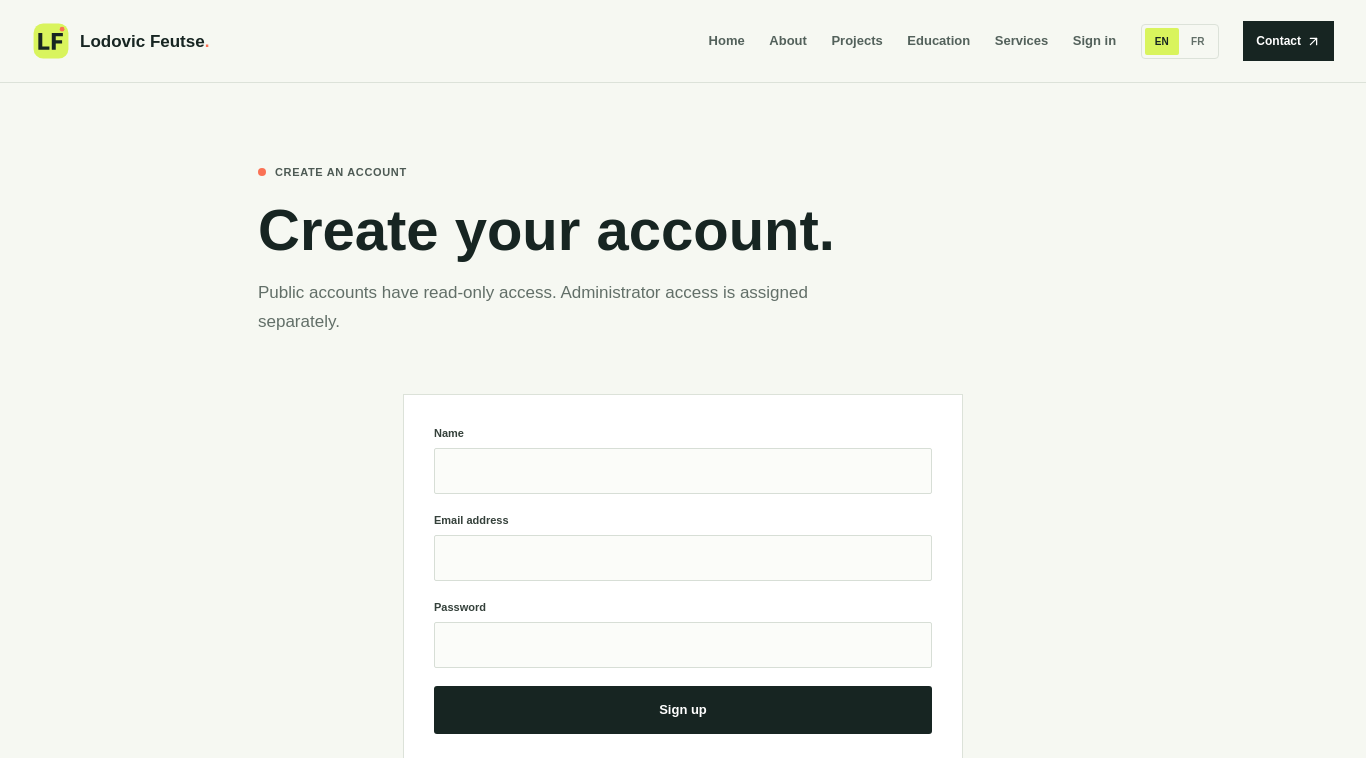
authentication and dashboard › creates an account and stores the returned session
Type "Alex Example" into the field labelled "Name" at (683, 471), box [434, 448, 932, 494]
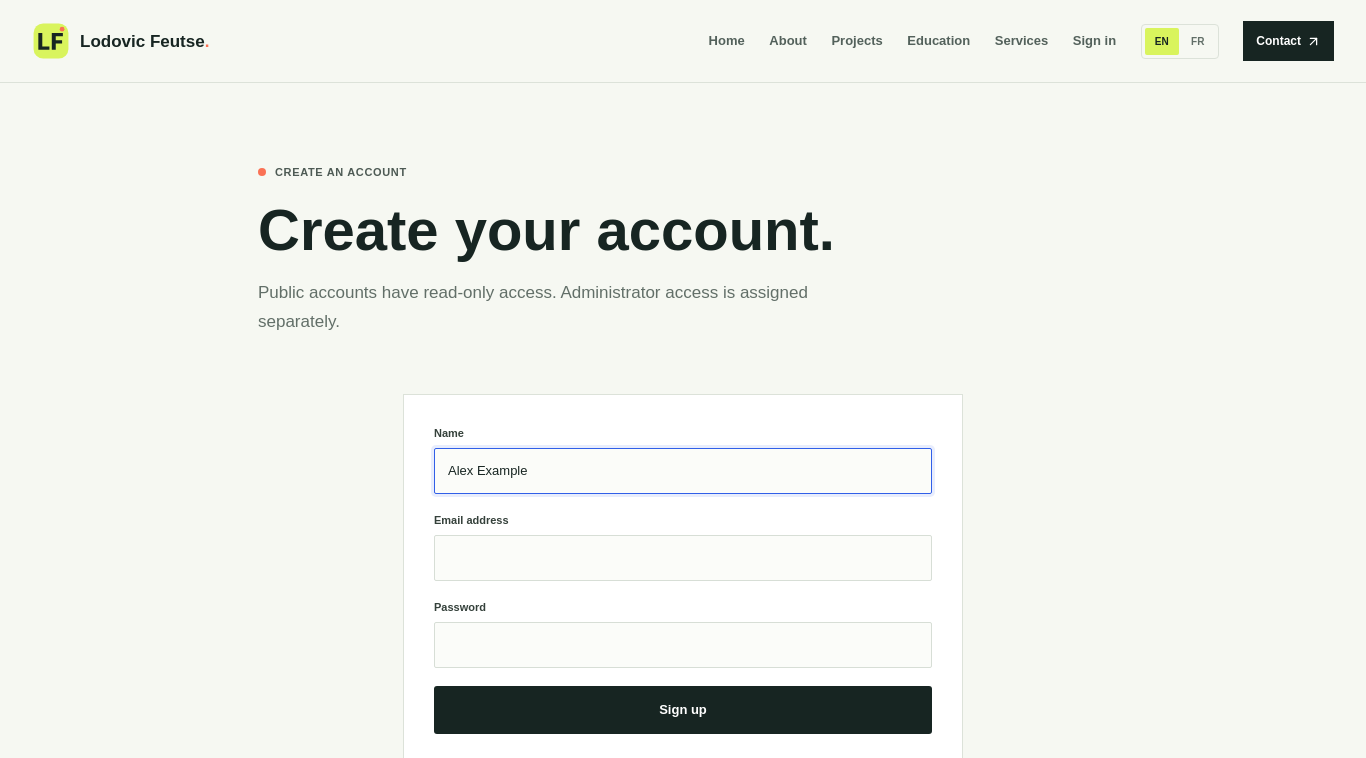
Type "alex@example.test" into the field labelled "Email address" at (683, 558), box [434, 535, 932, 581]
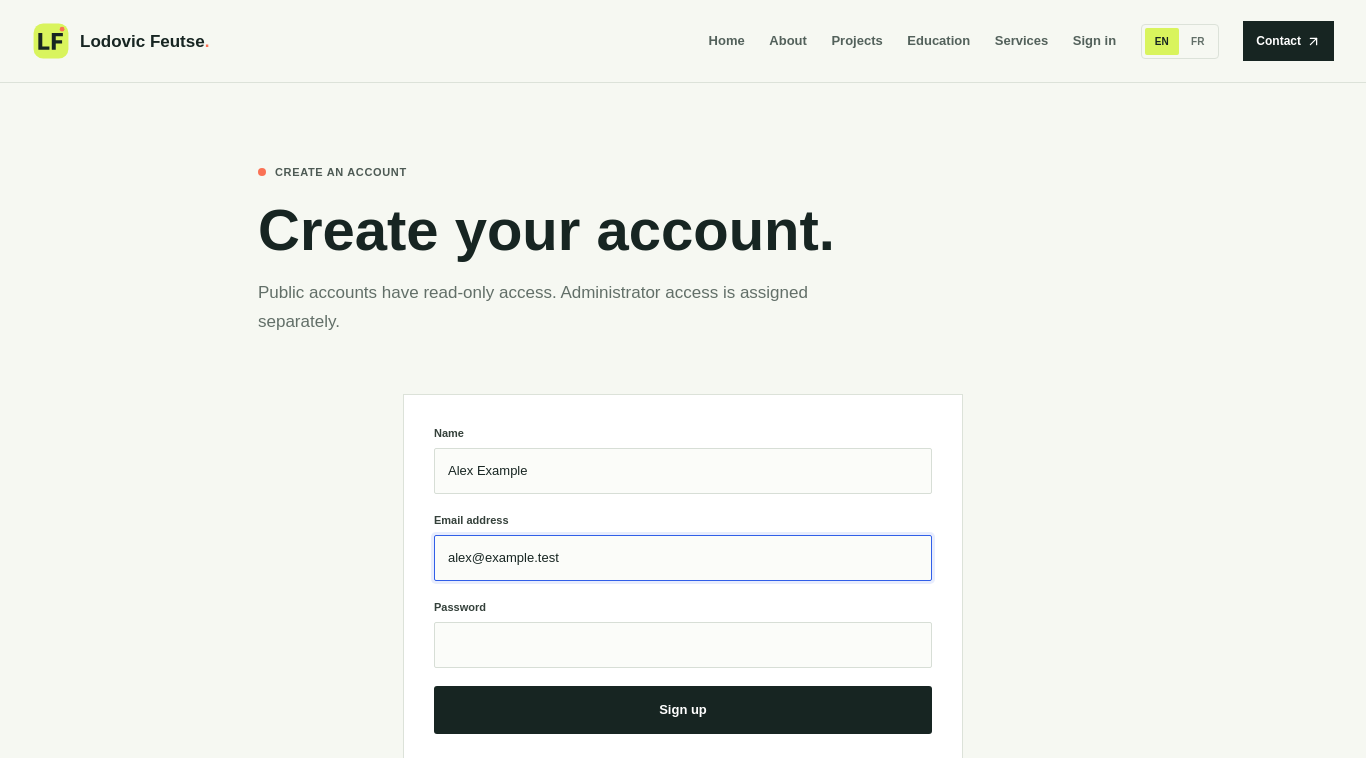
Type "password123" into the password field labelled "Password" at (683, 645), box [434, 622, 932, 668]
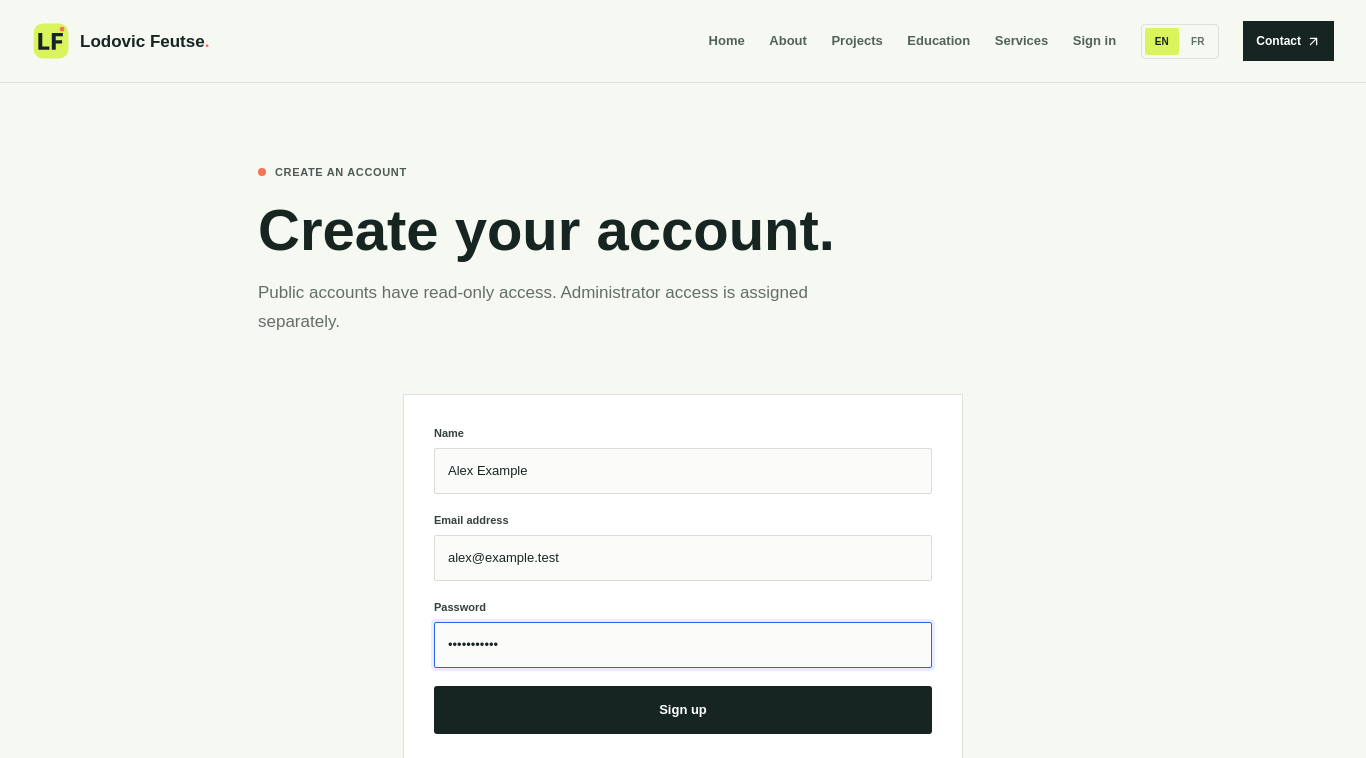
Click the button "Sign up" at (683, 710), box [434, 686, 932, 734]
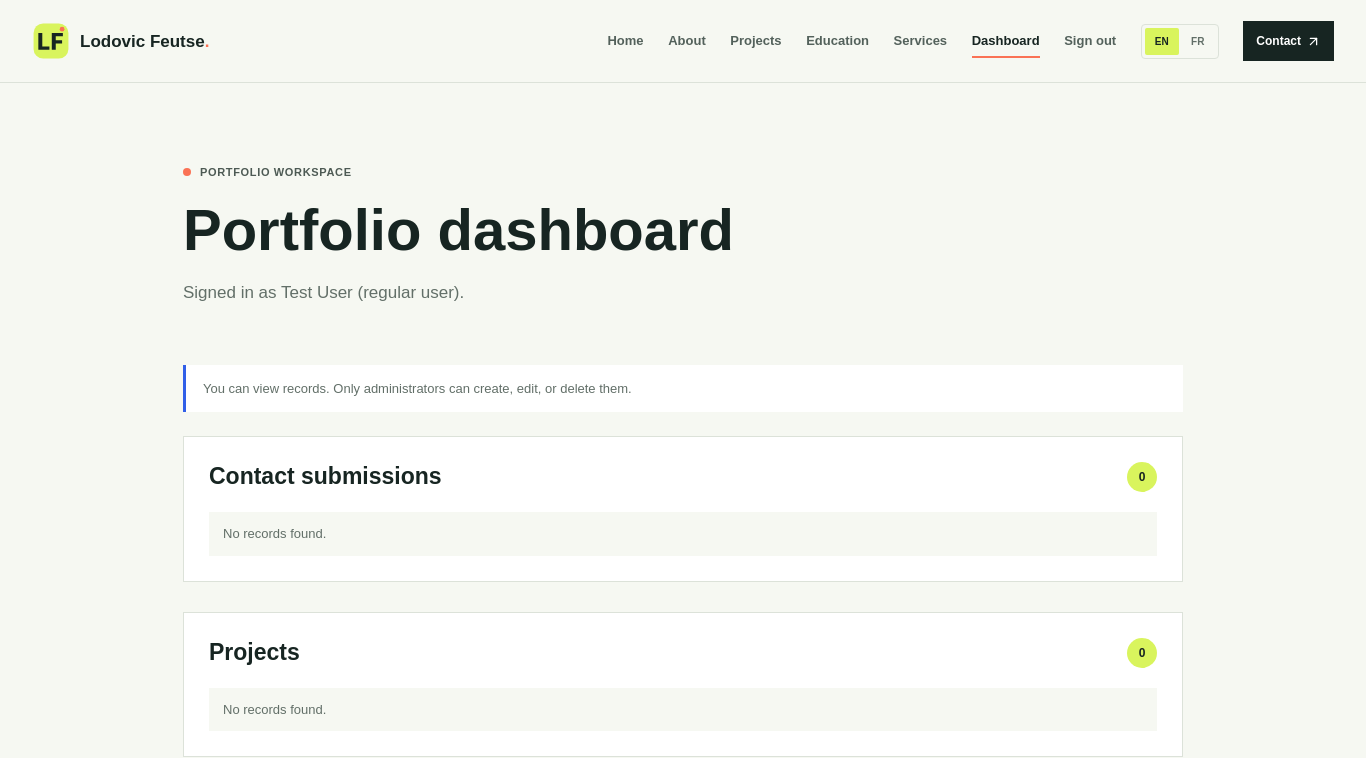
Check: the text "Only administrators can create" is shown, box [203, 381, 632, 396]
